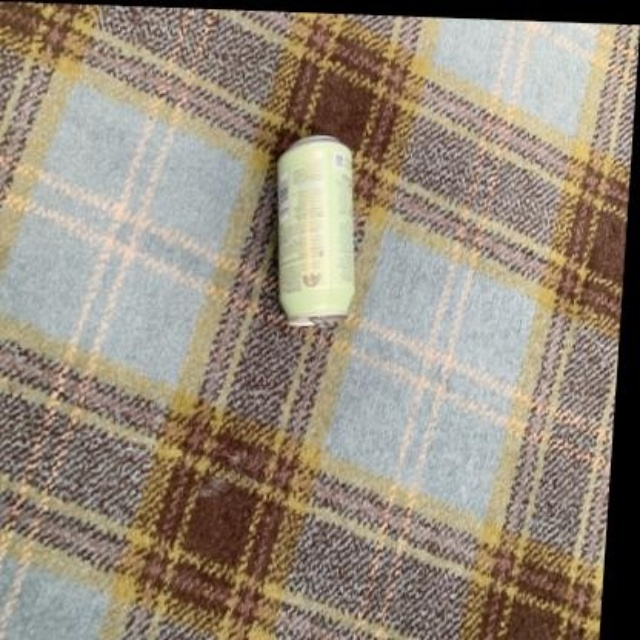trash: (277, 135, 354, 325)
